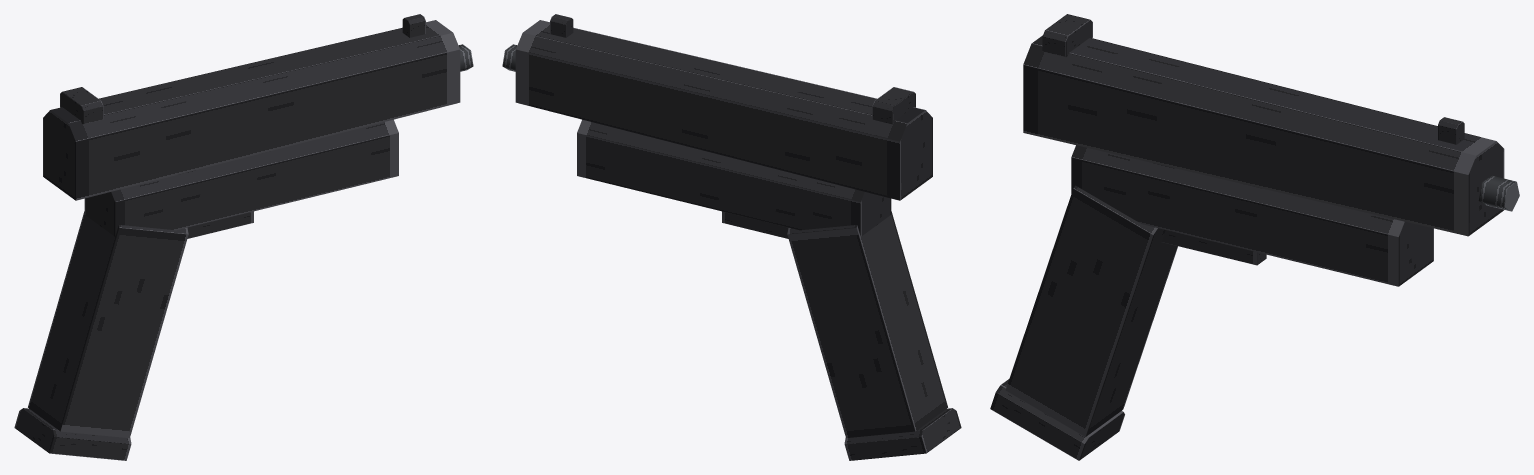
The model's file is USP.glb.
The picture shows the model from 3 angles, left to right: view 1: azimuth 30°, elevation 25°; view 2: azimuth 150°, elevation 25°; view 3: azimuth 330°, elevation 25°; orthographic projection. The views are drawn at different scales.
Visible parts, largest first — view 1: USP; view 2: USP; view 3: USP.
Boxes of the visible parts, x1=… form: USP: x1=14, y1=14, x2=473, y2=460; USP: x1=502, y1=14, x2=961, y2=460; USP: x1=990, y1=14, x2=1519, y2=460.
Bounding box in the file's own units: 0.2146 × 0.1689 × 0.03.
Materials: 1 (1 with a texture image).
